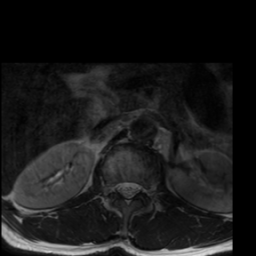CCS_normal: (124, 175, 131, 209)
LFS_stenosis: (141, 178, 150, 201)
LLS_normal: (132, 176, 141, 200)
RFS_normal: (108, 176, 115, 199)
RLS_normal: (115, 176, 124, 198)
